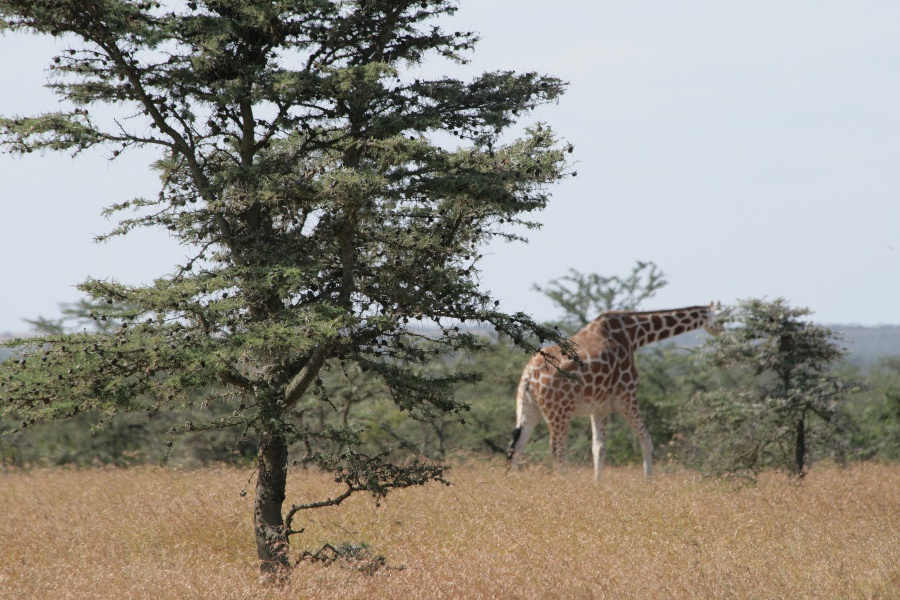giraffe: (505, 293, 751, 489)
